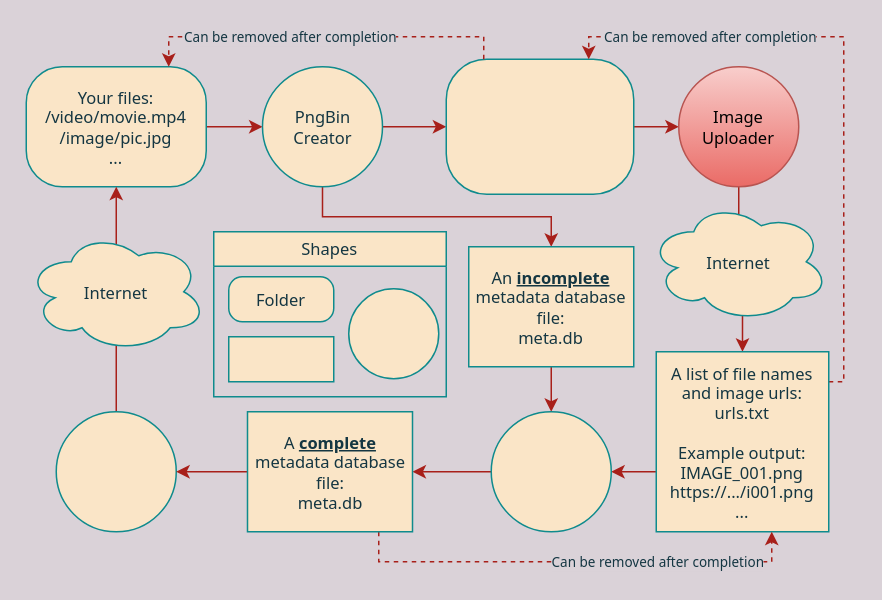
Image size: 882x600. Some labels were removed from this diagram. Here are the shapes that lost their labels. From the top down, the box of each, then its label:
(445, 58, 634, 194): A series of PNG files: IMAGE_001.png IMAGE_002.png ... IMAGE_666.png
(347, 287, 439, 379): Program
(227, 335, 334, 382): File
(55, 410, 176, 532): PngBin Downloader
(490, 410, 611, 532): Meta Updater
